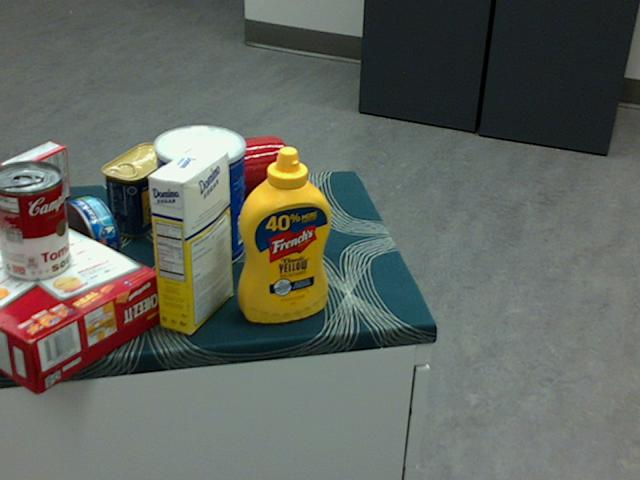cracker_box: (0, 205, 161, 394)
gelatin_box: (0, 141, 69, 221)
large_marker: (282, 153, 297, 246)
master_chef_can: (151, 124, 243, 270)
mug: (207, 134, 291, 208)
mustard_bottle: (237, 145, 332, 322)
potted_meat_can: (100, 141, 175, 237)
sugar_box: (146, 145, 233, 333)
tomato_soup_can: (0, 161, 70, 281)
tuna_fish_can: (53, 195, 118, 274)
